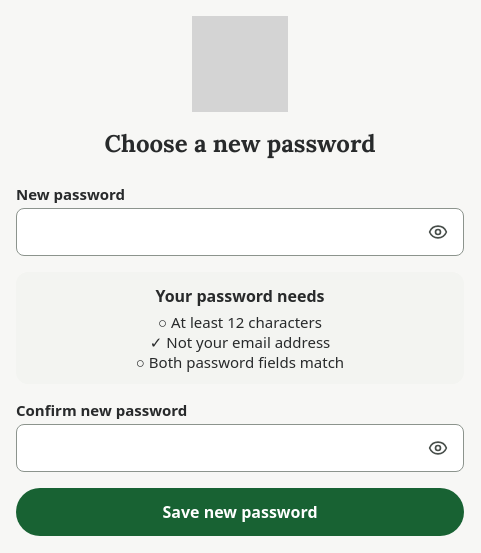
Test: reset submission › maps auth/invalid-action-code to its link status
Type "a-long-password" into the password field labelled "New password" at (240, 232), box top-left (16, 208), bottom-right (464, 256)
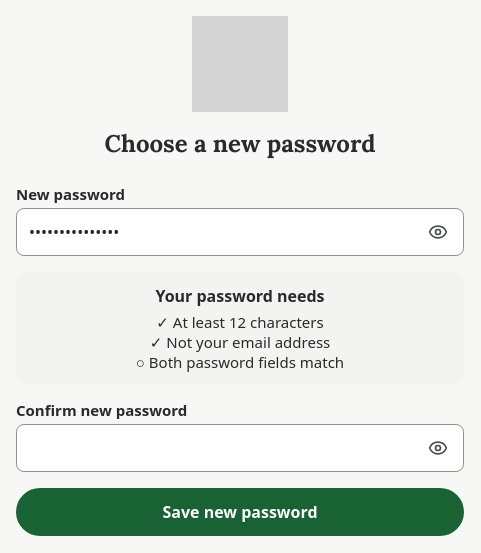
Type "a-long-password" into the password field labelled "Confirm new password" at (240, 448), box top-left (16, 424), bottom-right (464, 472)
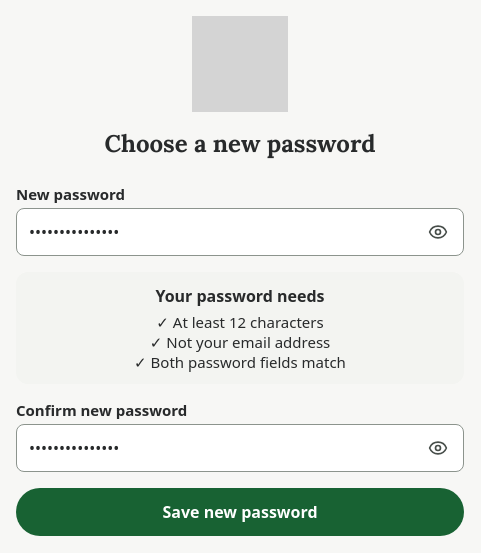
Click the button "Save new password" at (240, 512), box top-left (16, 488), bottom-right (464, 536)
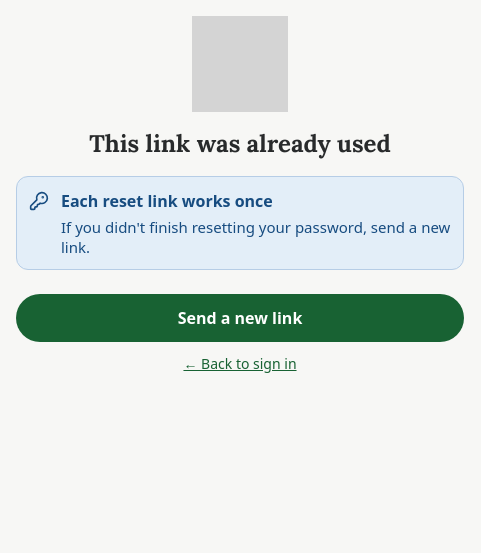
Result: the heading "This link was already used" is shown at top-left (89, 128), bottom-right (391, 159)
